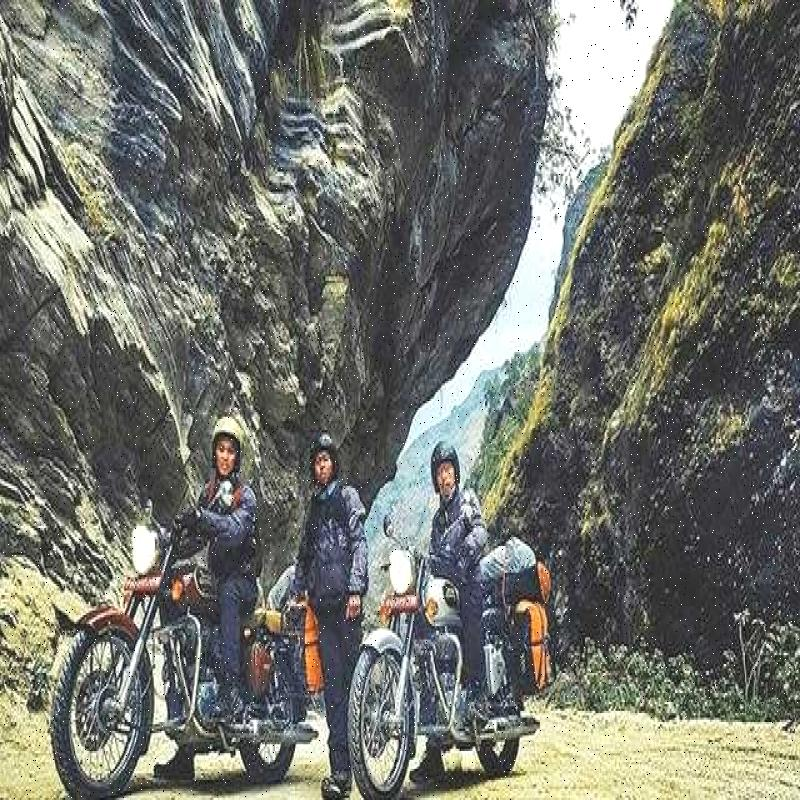bike: (42, 470, 203, 792), (342, 507, 460, 767)
